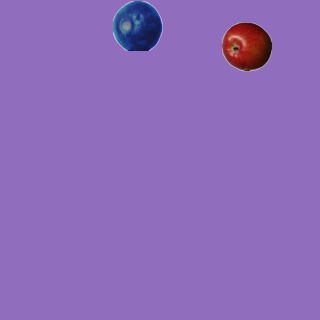Apple Braeburn: (221, 21, 271, 71)
Huckleberry: (112, 0, 162, 50)
